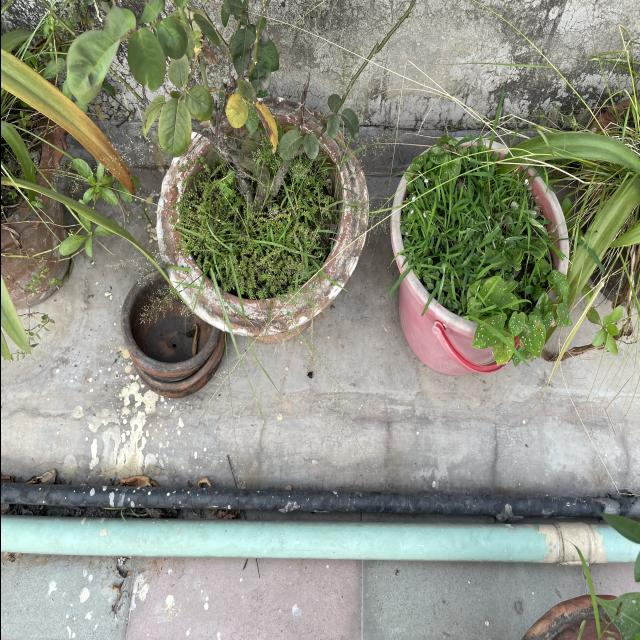Breeding Place: (154, 85, 371, 345), (386, 142, 556, 372), (124, 278, 224, 390)
